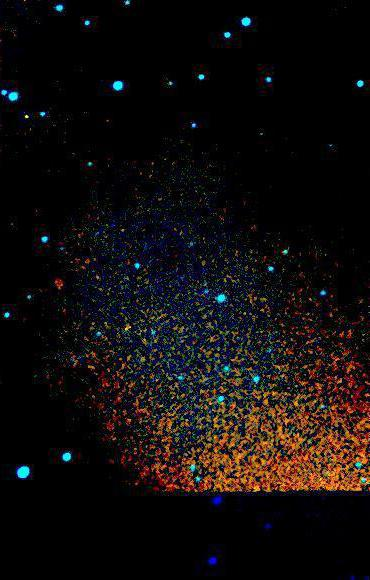star: (12, 100, 42, 130)
